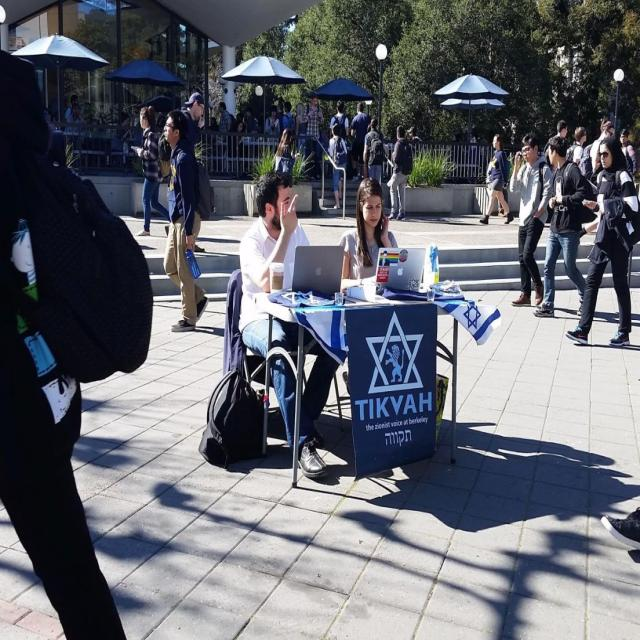body: (0, 36, 154, 640), (237, 168, 343, 482), (47, 91, 261, 176), (565, 136, 639, 349), (161, 107, 213, 336), (531, 134, 593, 318), (507, 130, 554, 308), (336, 174, 402, 296), (163, 90, 207, 254), (132, 103, 175, 238), (576, 117, 616, 252), (478, 130, 516, 227), (598, 506, 639, 565), (388, 124, 410, 222), (301, 93, 326, 178), (326, 122, 349, 210), (349, 101, 372, 183), (362, 117, 384, 184), (542, 119, 568, 172), (217, 100, 235, 171), (618, 127, 638, 184), (328, 100, 349, 149), (264, 104, 282, 156), (566, 125, 588, 166), (294, 101, 308, 161), (282, 100, 297, 153), (406, 125, 425, 160), (571, 139, 575, 146)
